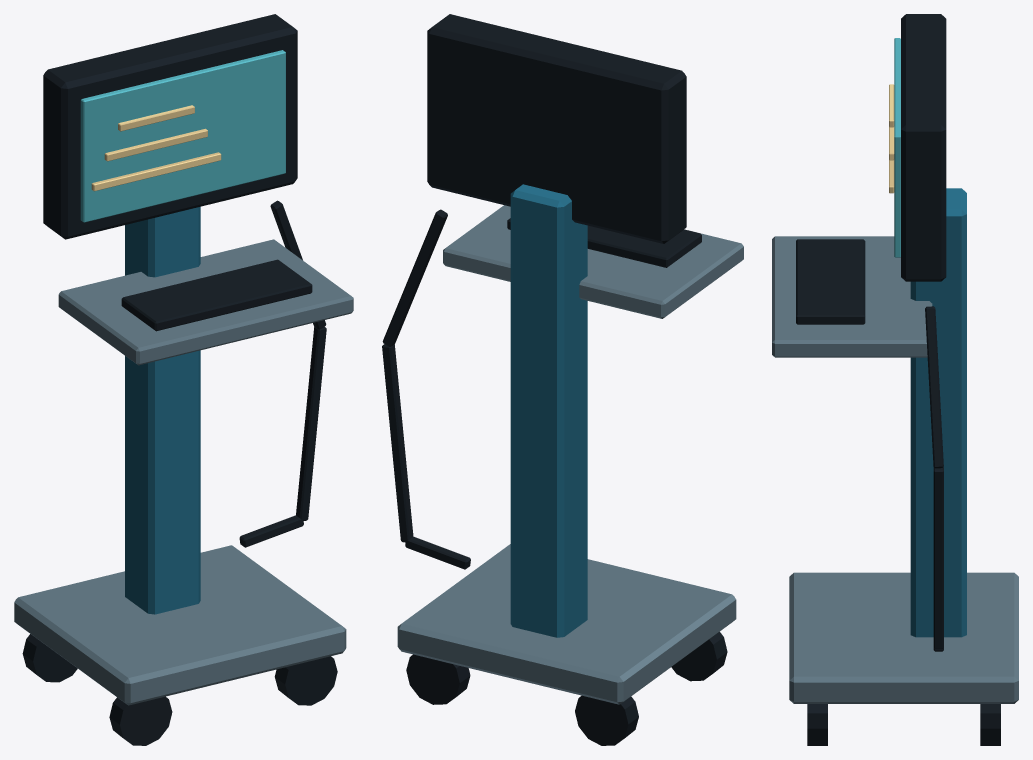
File: EC_DiagnosticStand.fbx
3 renders of one model, left to right at view 1: azimuth 30°, elevation 25°; view 2: azimuth 150°, elevation 25°; view 3: azimuth 270°, elevation 25°, orthographic. The views are drawn at different scales.
Parts seen in each view (by area): view 1: EC_DiagnosticStand; view 2: EC_DiagnosticStand; view 3: EC_DiagnosticStand.
Part boxes in pixels (x1,y1,x2,y2): EC_DiagnosticStand: [14, 14, 353, 745]; EC_DiagnosticStand: [382, 14, 743, 745]; EC_DiagnosticStand: [772, 14, 1018, 745].
Size of the model in its own units: 0.7466 by 1.62 by 0.57.
